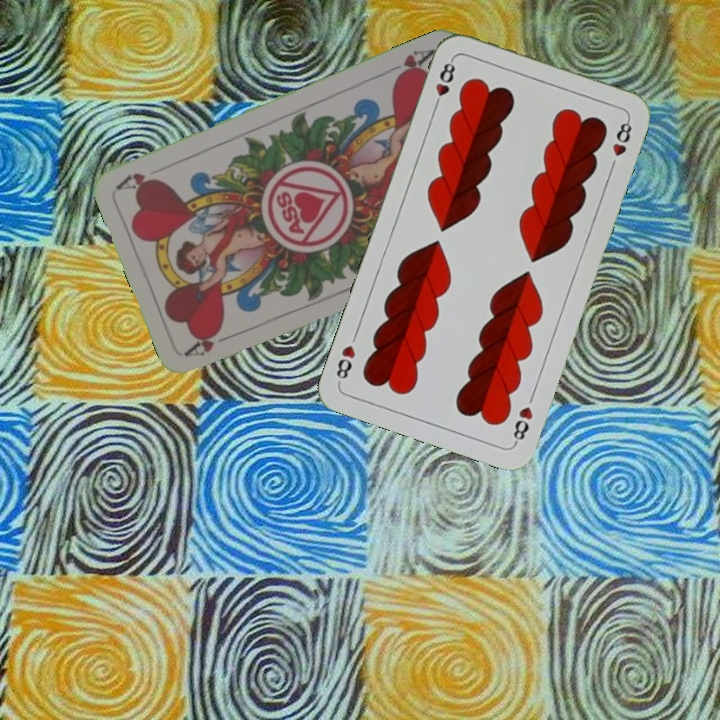H8: (430, 55, 458, 112), (509, 402, 536, 447)
HA: (382, 45, 438, 83), (183, 323, 240, 359)
